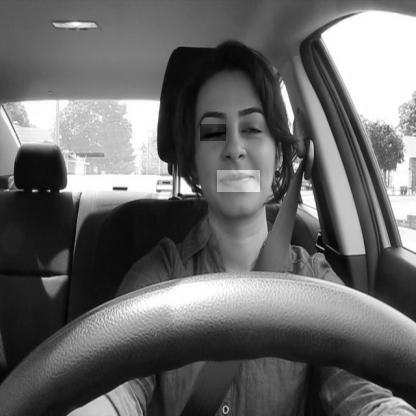seatbelt: (165, 31, 296, 416)
